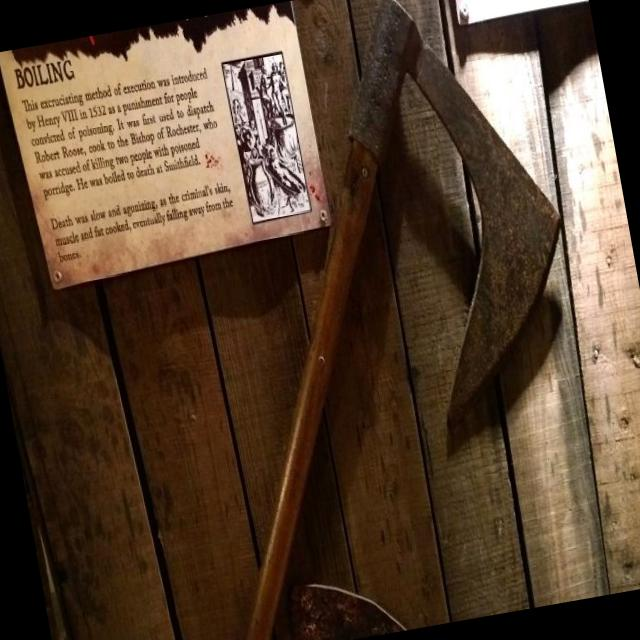Axe: (246, 0, 560, 640)
